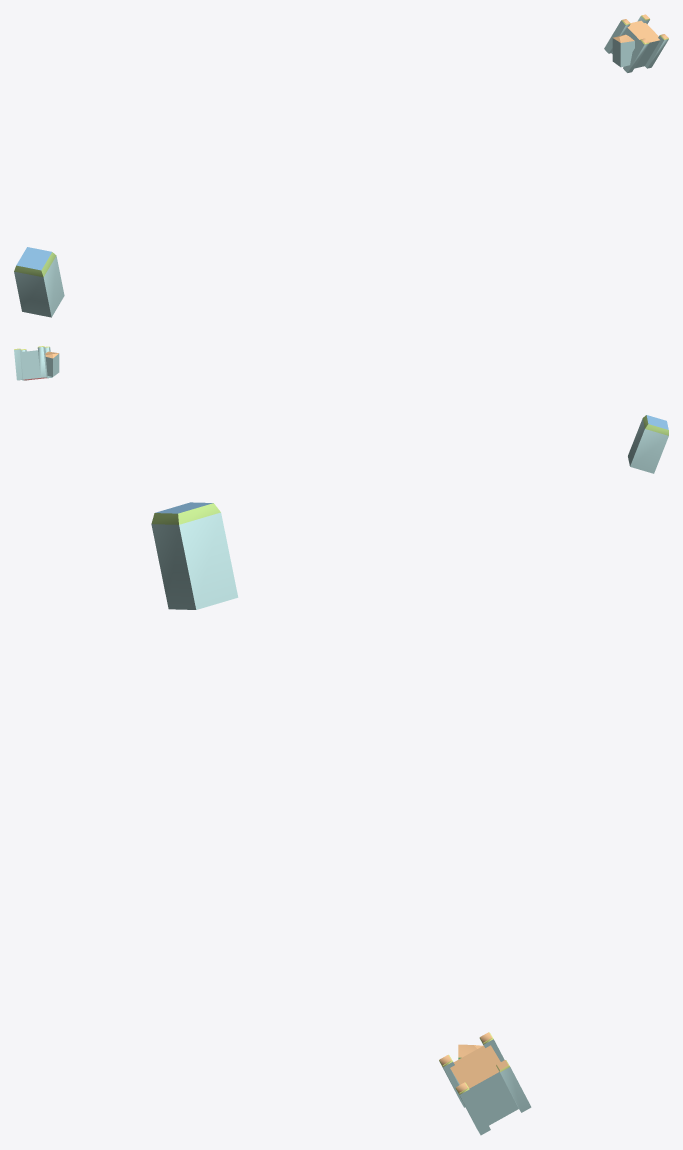
The model's file is Oren_Delf_altar__Delf_altar_ruins.gltf.
3 views of the same model, one above another, from view 1: azimuth 30°, elevation 25°; view 2: azimuth 150°, elevation 25°; view 3: azimuth 270°, elevation 25° (orthographic). The views are drawn at different scales.
Parts seen in each view (by area): view 1: Delf_altar_ruins; view 2: Delf_altar_ruins; view 3: Delf_altar_ruins.
Boxes of the visible parts, x1,y1,x2,y2 form: Delf_altar_ruins: (14, 14, 668, 317); Delf_altar_ruins: (14, 346, 668, 473); Delf_altar_ruins: (151, 502, 531, 1135).
Size of the model in its own units: 16.74 by 1.36 by 4.74.
